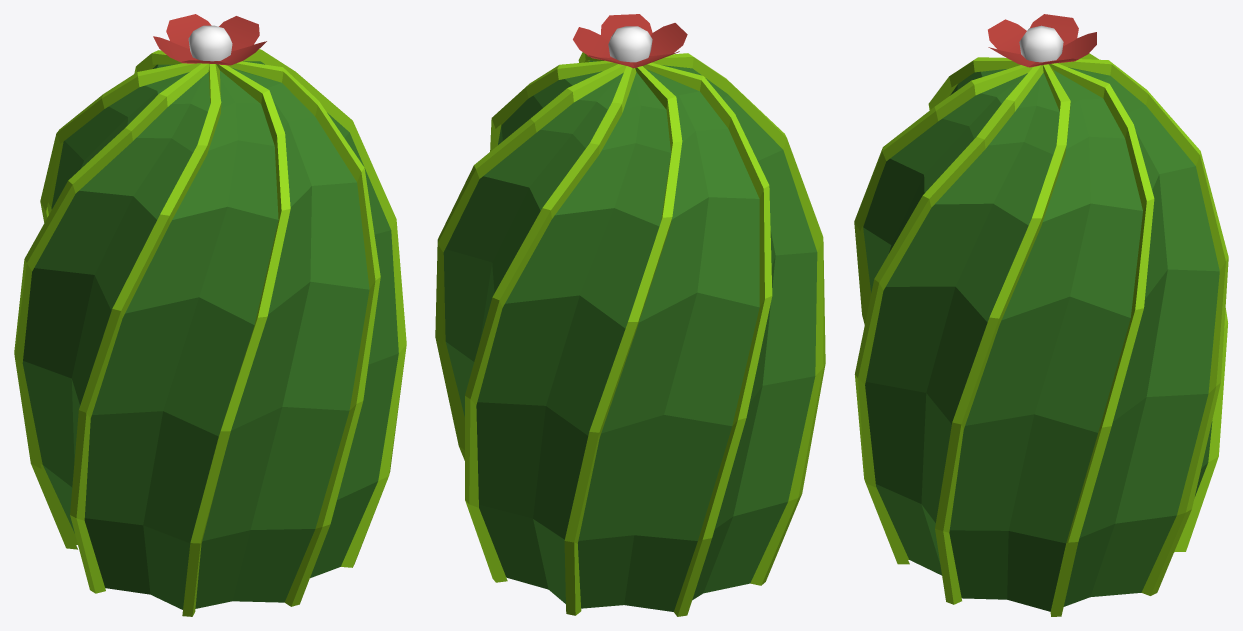
File: Cactus_20_A.fbx
3 views of the same model, side by side, from view 1: azimuth 30°, elevation 25°; view 2: azimuth 150°, elevation 25°; view 3: azimuth 270°, elevation 25° (orthographic).
Parts seen in each view (by area): view 1: Cactus_20_A; view 2: Cactus_20_A; view 3: Cactus_20_A.
Part boxes in pixels (x1=…): Cactus_20_A: x1=14, y1=14, x2=406, y2=616; Cactus_20_A: x1=435, y1=14, x2=825, y2=616; Cactus_20_A: x1=854, y1=14, x2=1228, y2=616.
Bounding box in the file's own units: 102 × 158 × 102.
